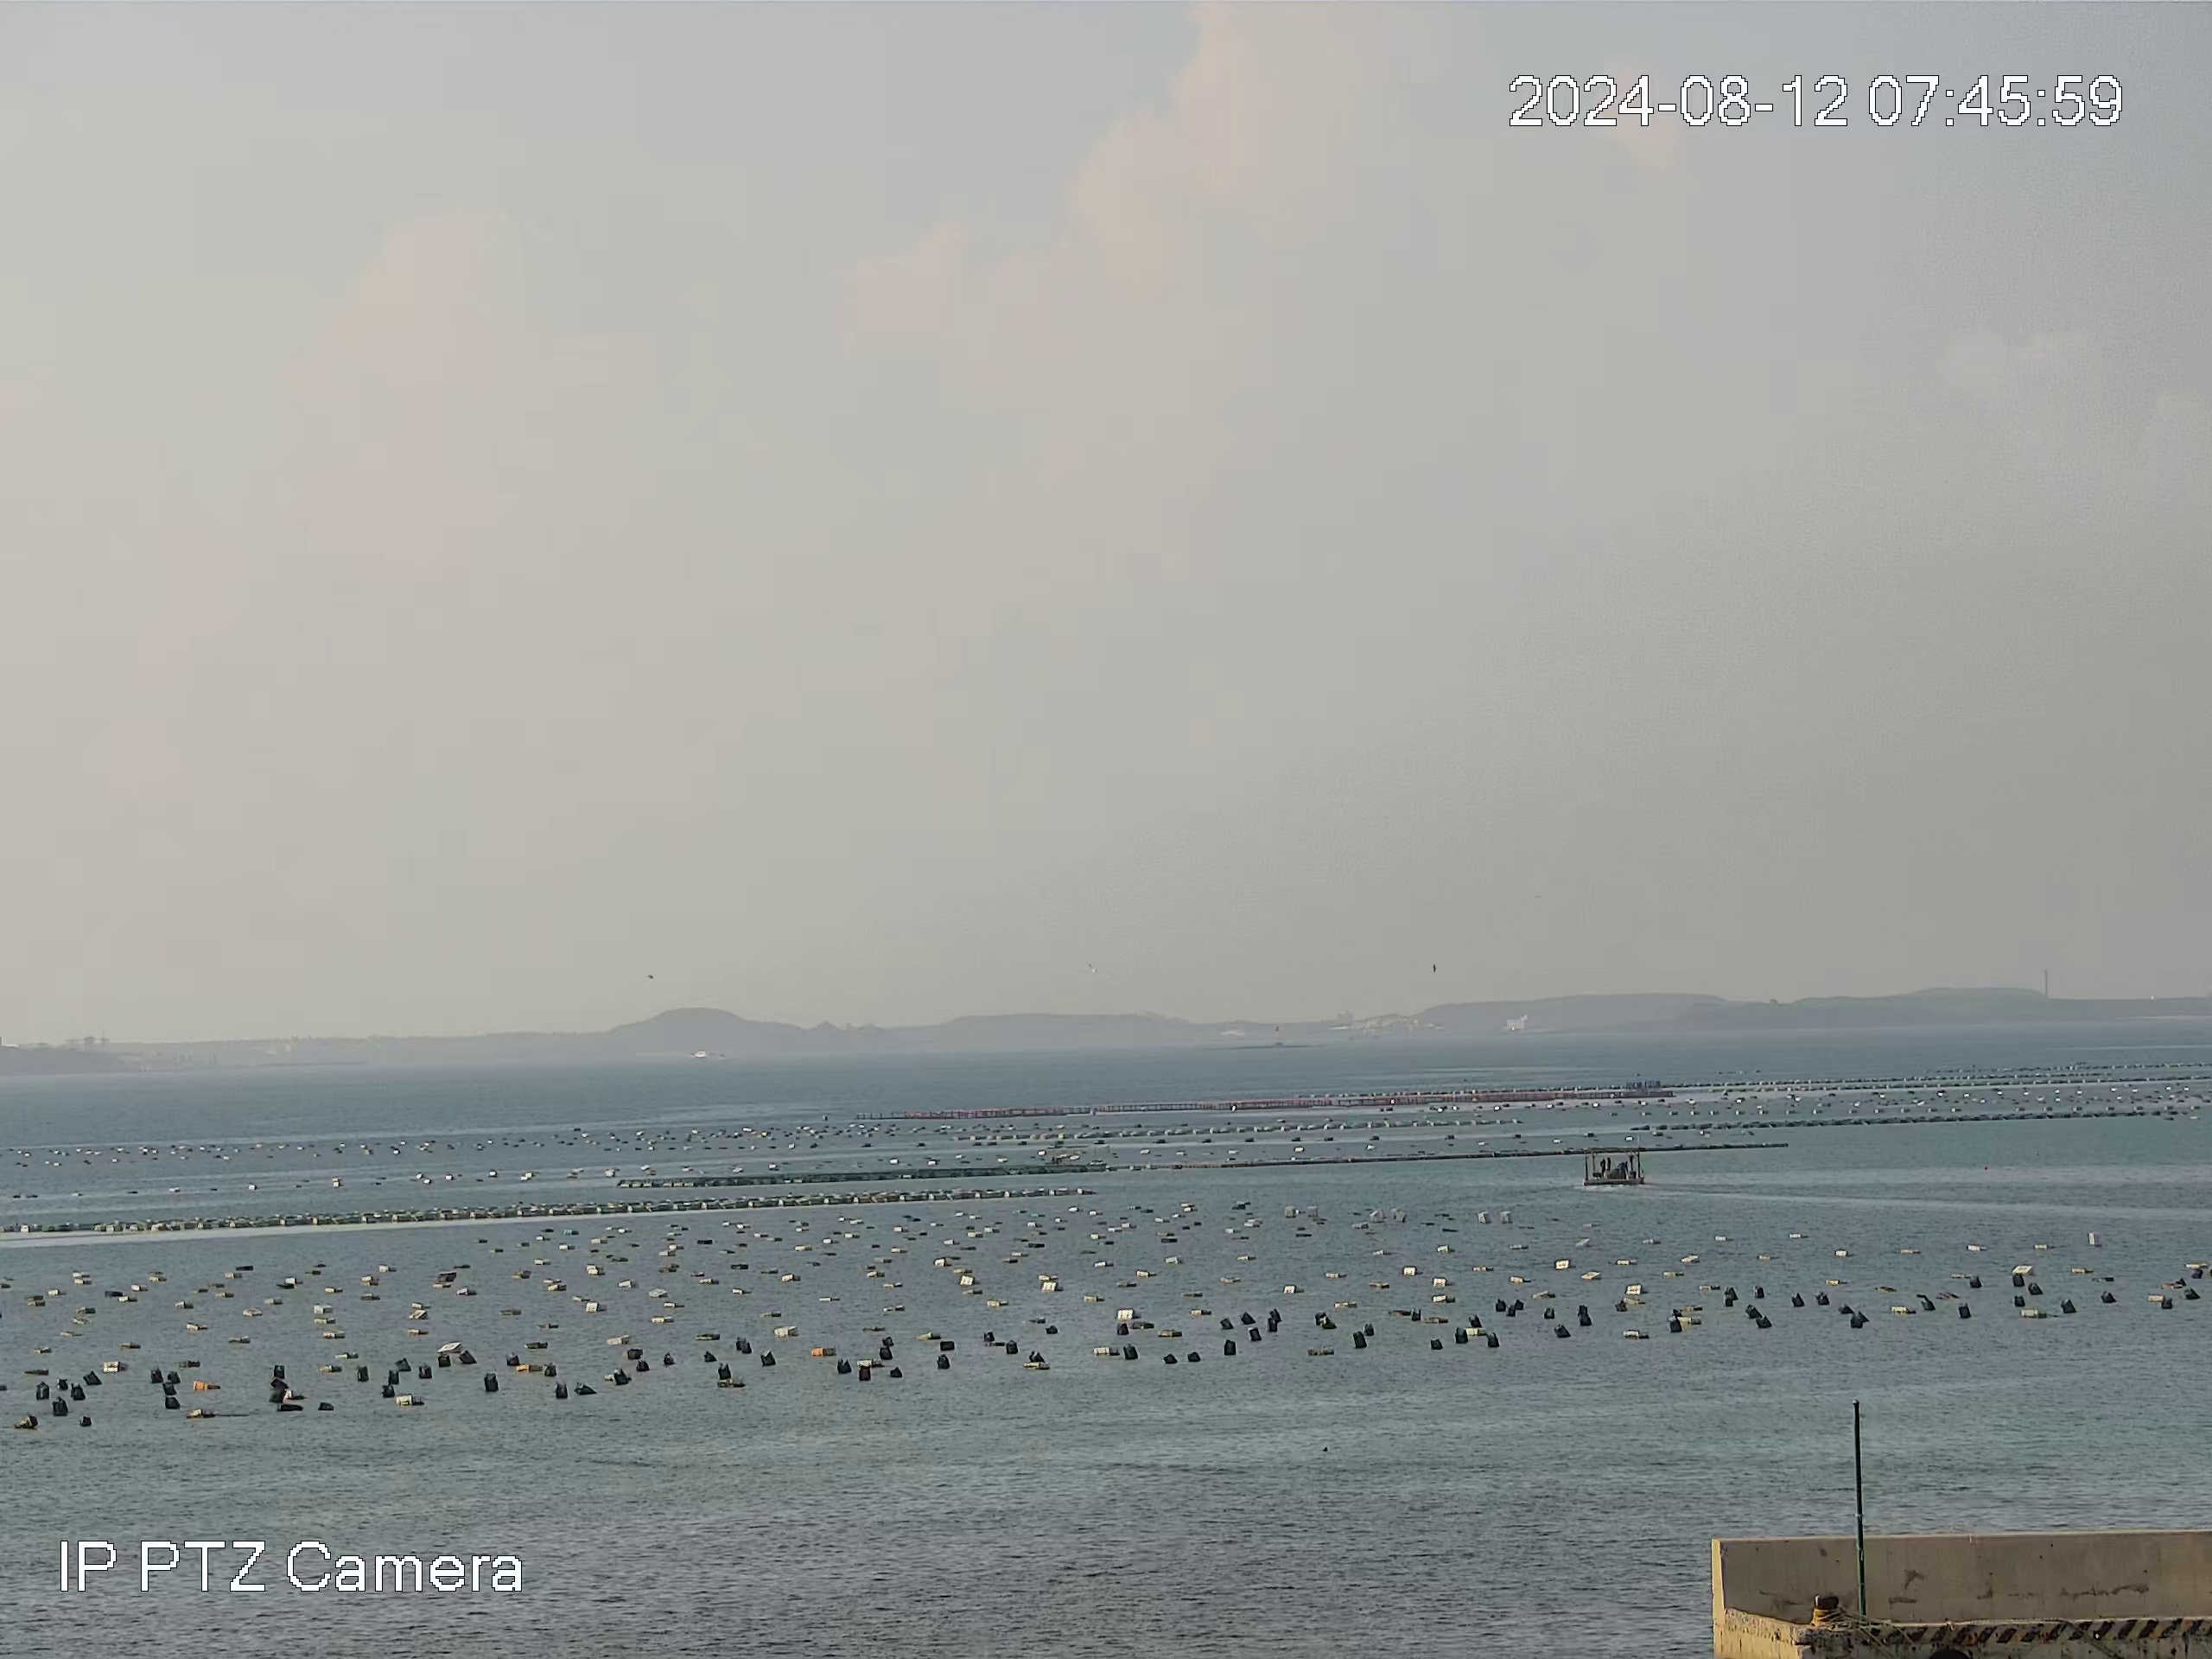boat: (1581, 1145, 1646, 1187)
